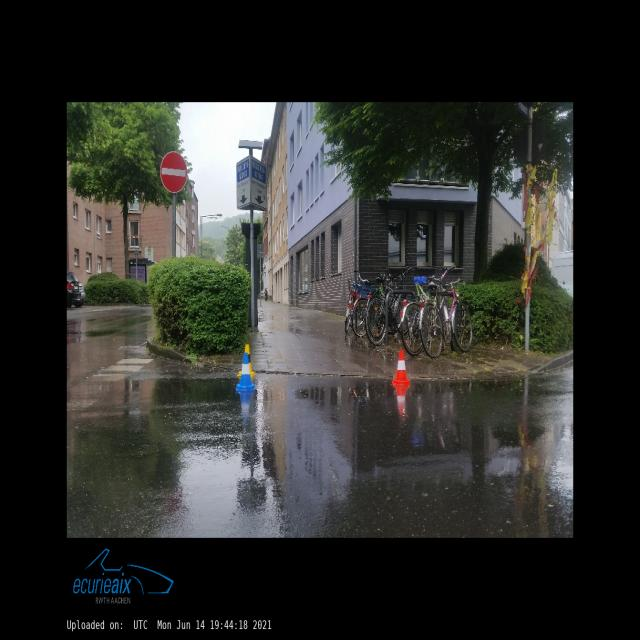blue_cone: (236, 352, 254, 389)
orange_cone: (393, 350, 410, 384)
yellow_cone: (239, 345, 254, 375)
